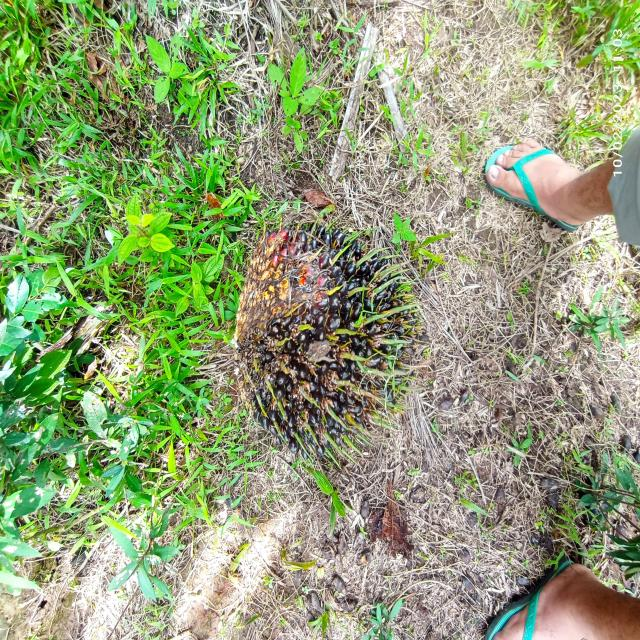fraksi 00: (207, 196, 436, 479)
